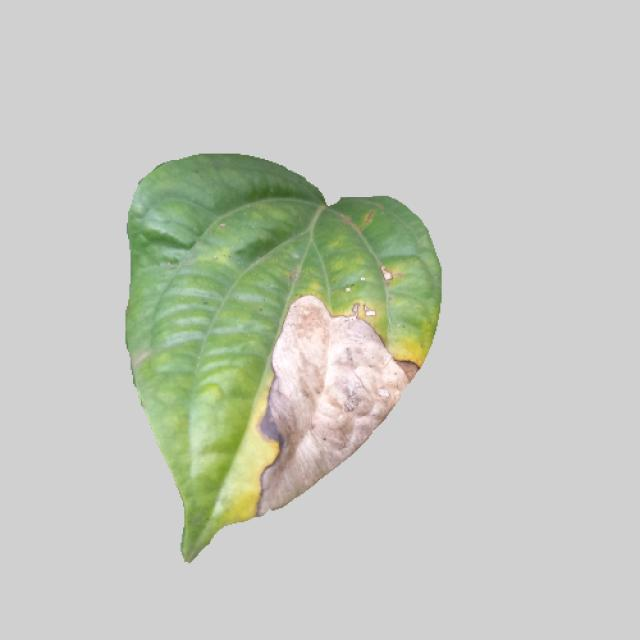leaf-blight: (109, 152, 447, 561)
